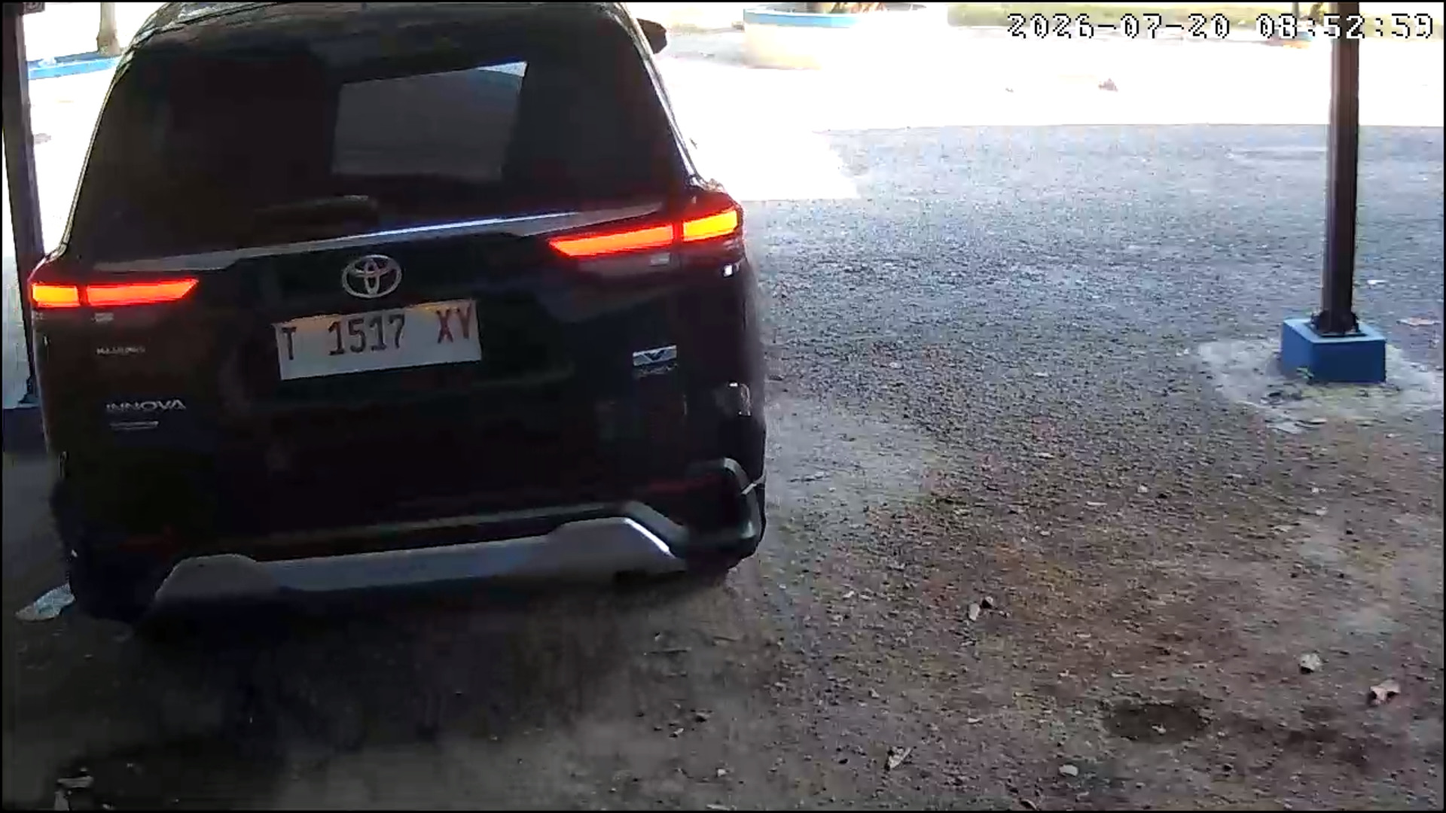plat nomor: (271, 295, 488, 388)
